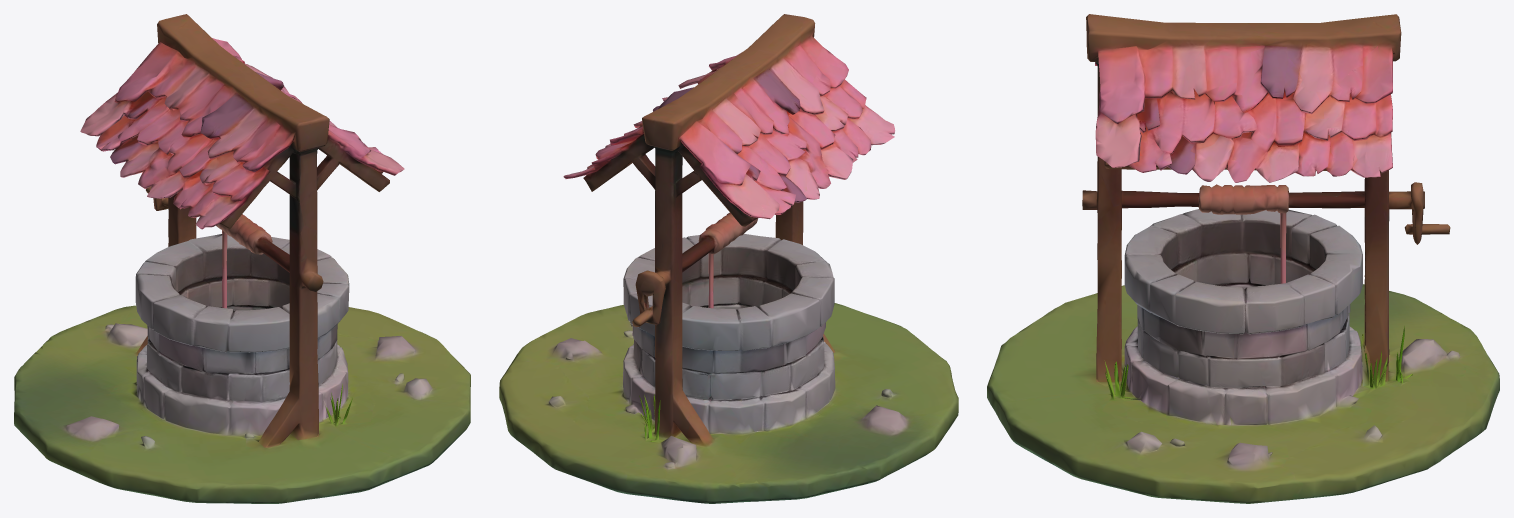
The model's file is prop-stone-well.glb.
The picture shows the model from 3 angles, left to right: view 1: azimuth 30°, elevation 25°; view 2: azimuth 150°, elevation 25°; view 3: azimuth 270°, elevation 25°; orthographic projection. The views are drawn at different scales.
Parts seen in each view (by area): view 1: tripo_node_26ef675b-01d8-4e16-ba44-b14d8c57cdd0_0; view 2: tripo_node_26ef675b-01d8-4e16-ba44-b14d8c57cdd0_0; view 3: tripo_node_26ef675b-01d8-4e16-ba44-b14d8c57cdd0_0.
Boxes of the visible parts, x1,y1,x2,y2 form: tripo_node_26ef675b-01d8-4e16-ba44-b14d8c57cdd0_0: [14, 14, 470, 503]; tripo_node_26ef675b-01d8-4e16-ba44-b14d8c57cdd0_0: [499, 14, 958, 503]; tripo_node_26ef675b-01d8-4e16-ba44-b14d8c57cdd0_0: [987, 14, 1499, 503].
Size of the model in its own units: 0.9979 by 0.809 by 1.
Materials: 1 (1 with a texture image).
